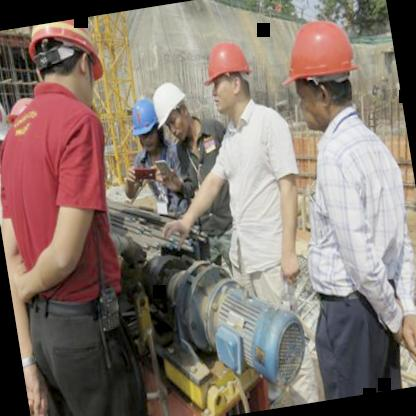helmet: (275, 15, 370, 132), (24, 15, 111, 118), (194, 35, 260, 124), (150, 78, 197, 144), (126, 97, 166, 156), (0, 80, 14, 162)
